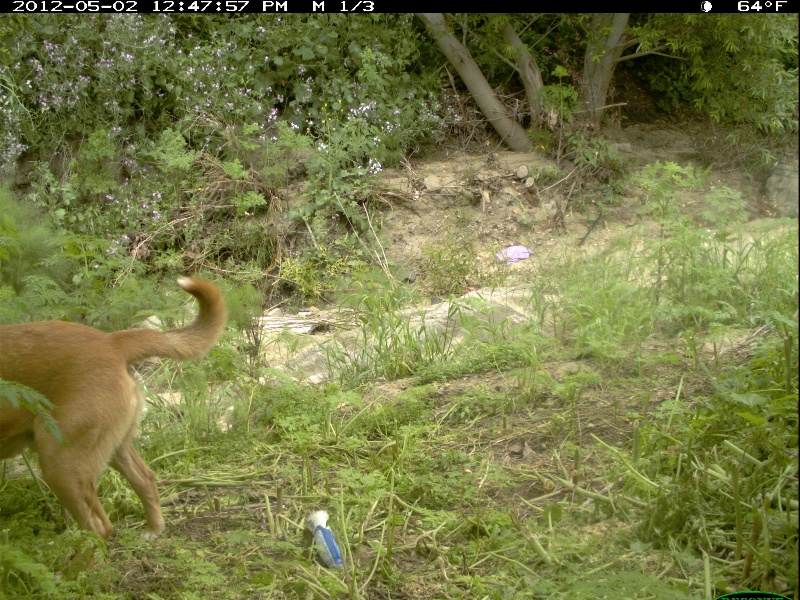dog: (1, 268, 231, 544)
